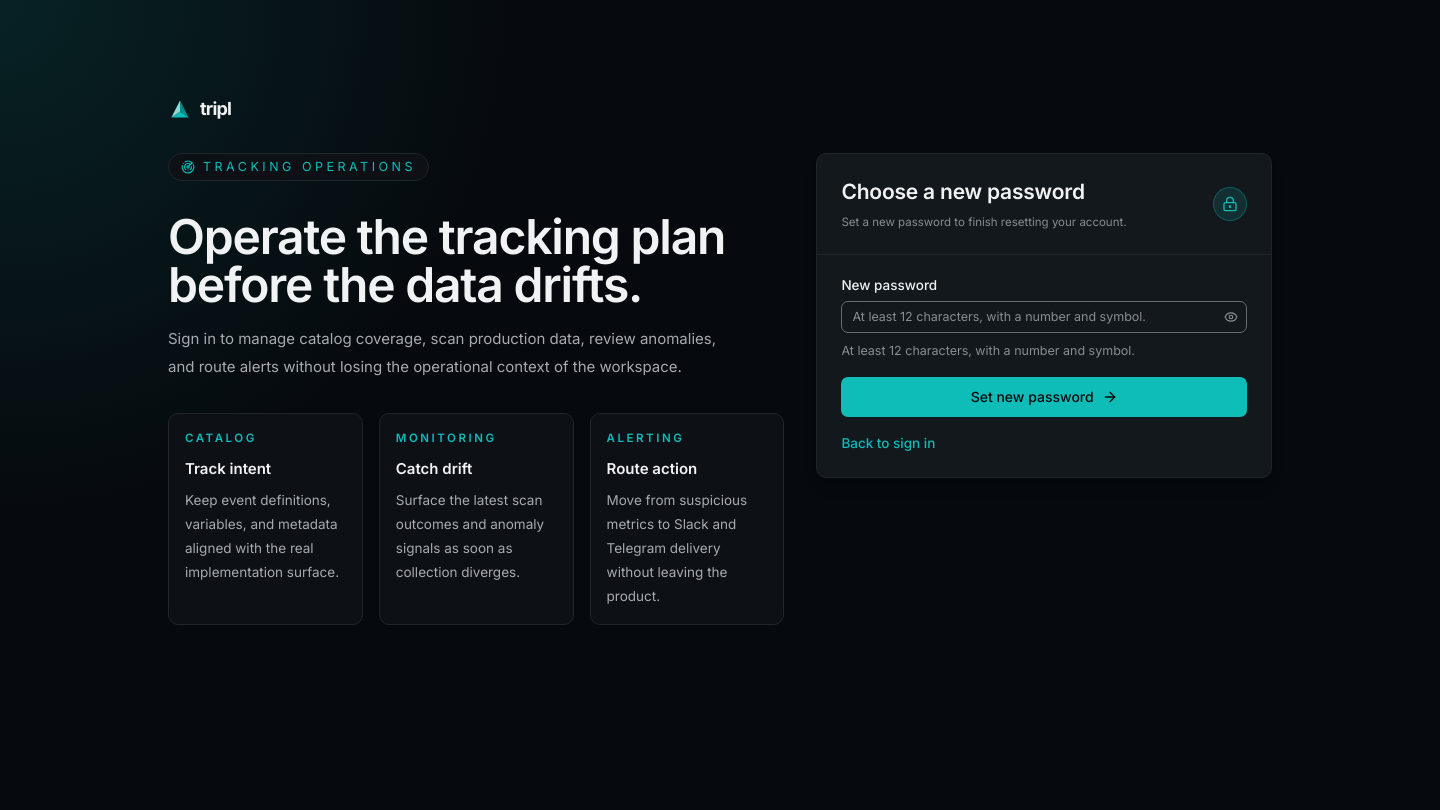
AuthPage › enters reset mode from an emailed ?reset_token link and confirms a new password
Expected: the heading "Choose a new password" is shown, [841, 178, 1127, 206]
Type "BrandNewPass9!" into the password field labelled "New password" at (1044, 317), box [841, 301, 1247, 333]
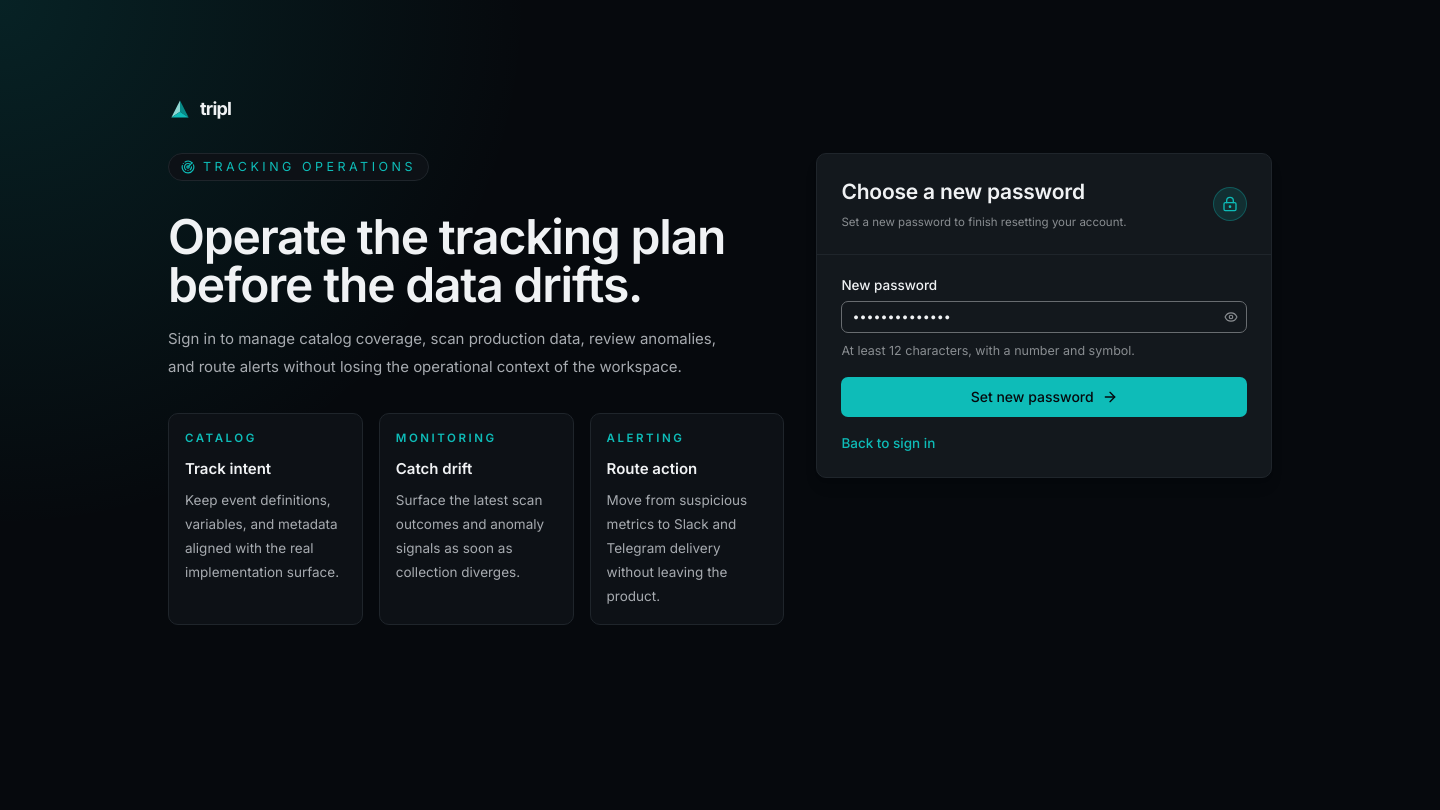
Click the button "Set new password" at (1044, 397), box [841, 377, 1247, 417]
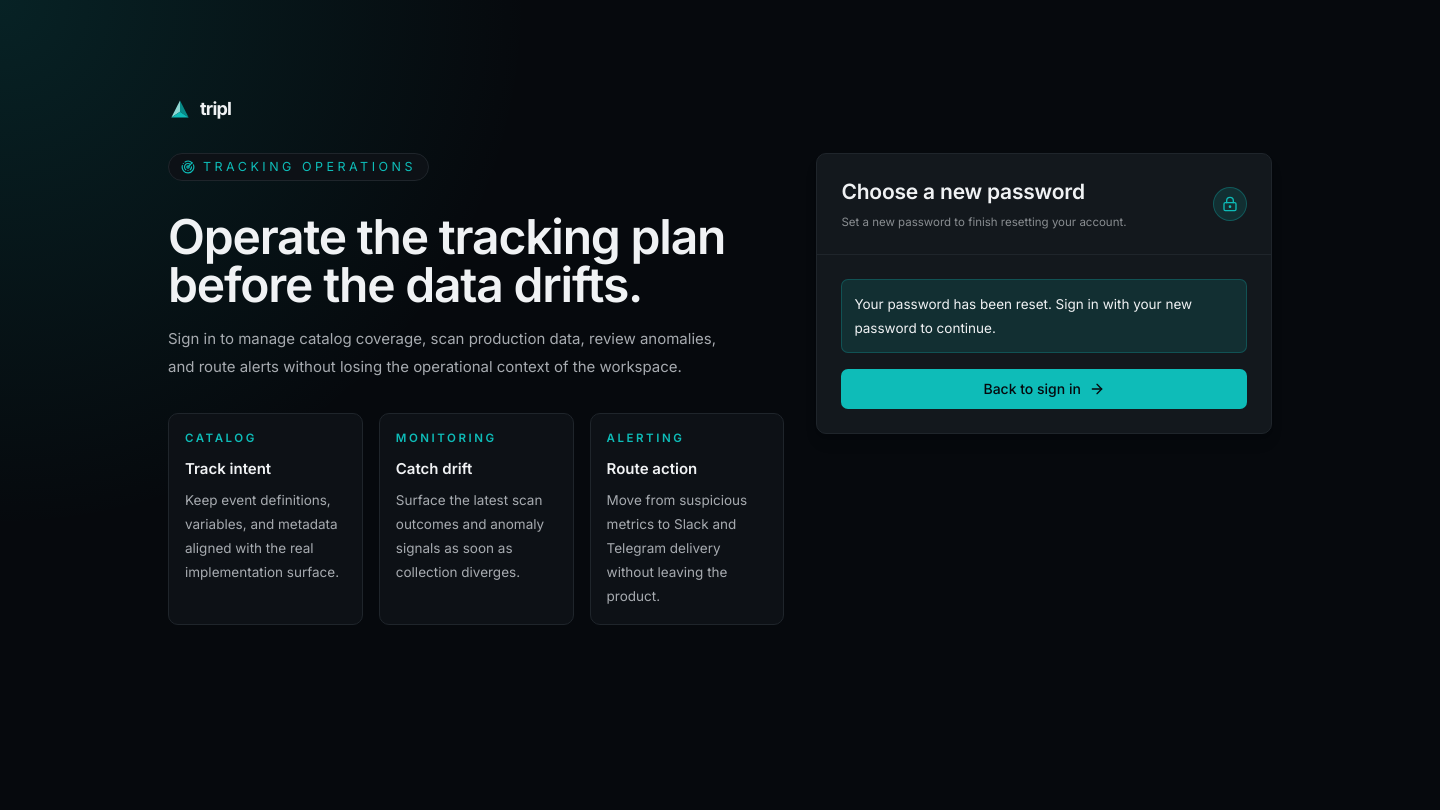
Now the text "Your password has been reset. Sign in with your new password to continue." is shown, box [841, 279, 1247, 353]
